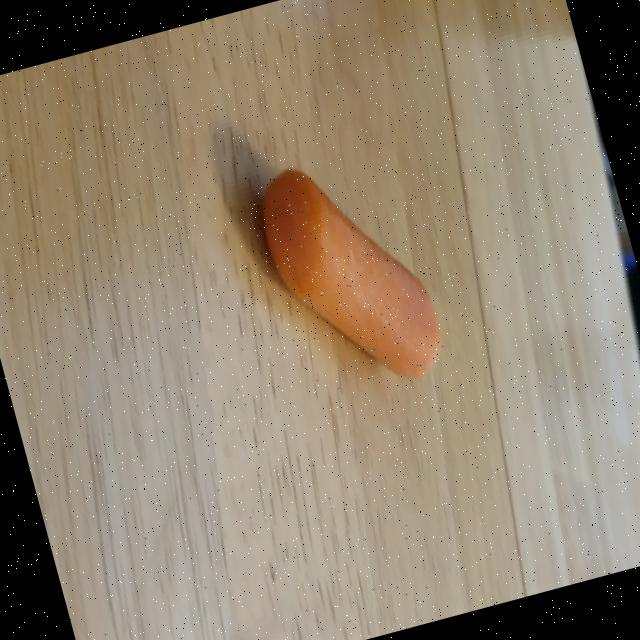carrot: (262, 169, 440, 378)
